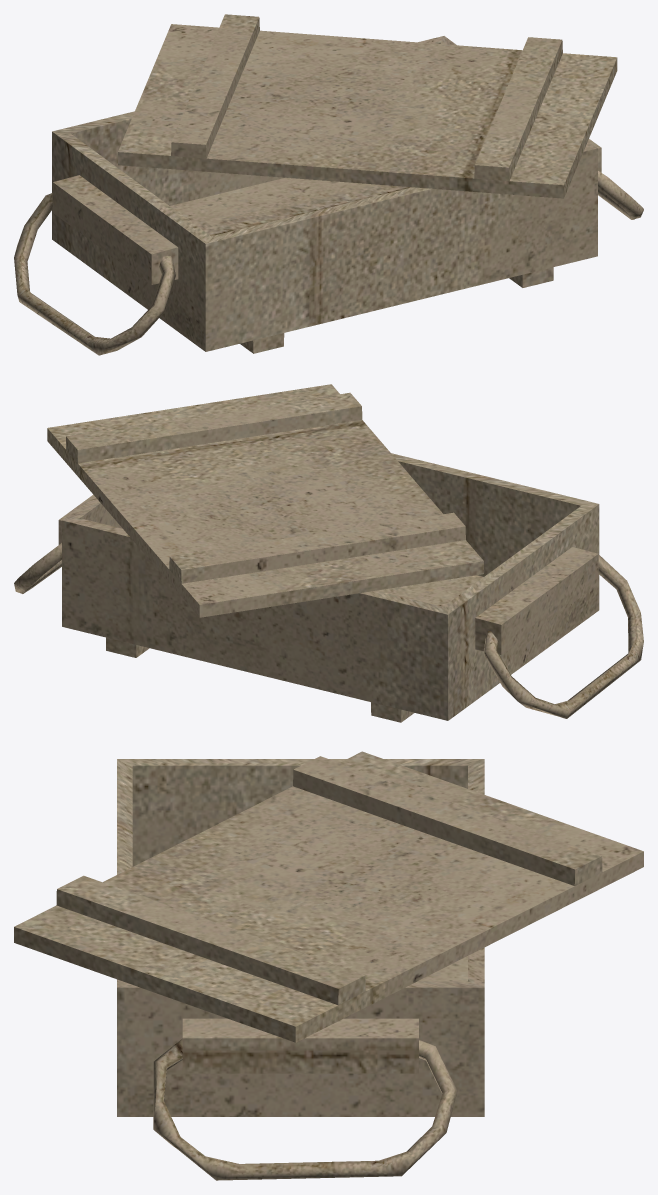
The model's file is ammoBoxOpen.glb.
3 renders of one model, top to bottom at view 1: azimuth 30°, elevation 25°; view 2: azimuth 150°, elevation 25°; view 3: azimuth 270°, elevation 25°, orthographic. The views are drawn at different scales.
Visible parts, largest first — view 1: AmmoCrate_Searched; view 2: AmmoCrate_Searched; view 3: AmmoCrate_Searched.
Part boxes in pixels (x1,y1,x2,y2): AmmoCrate_Searched: (14, 14, 643, 355); AmmoCrate_Searched: (14, 384, 643, 722); AmmoCrate_Searched: (14, 751, 643, 1180).
Bounding box in the file's own units: 1.28 × 0.3222 × 1.04.
Materials: 1 (1 with a texture image).
